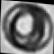correct: (2, 0, 54, 54)
